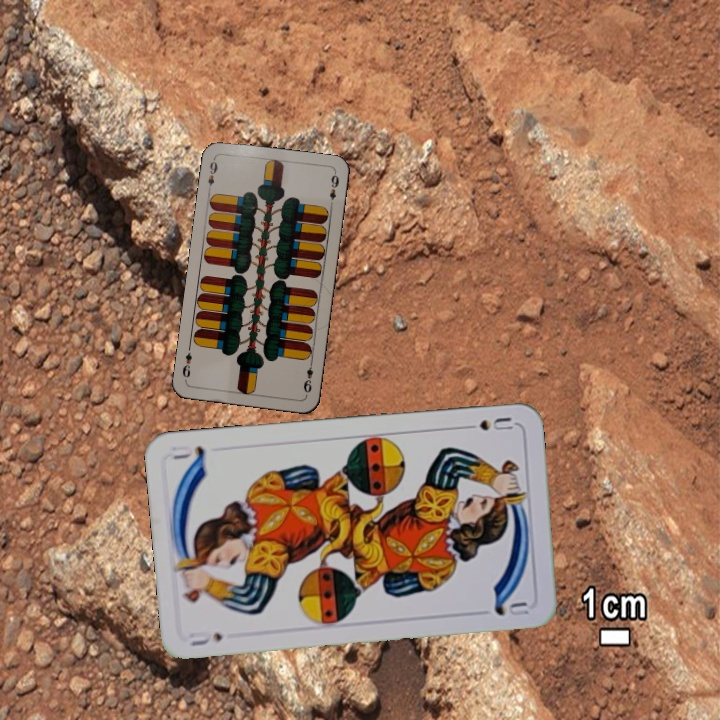E9: (299, 357, 315, 398), (204, 154, 220, 195)
SU: (458, 413, 515, 433), (185, 627, 226, 649)
